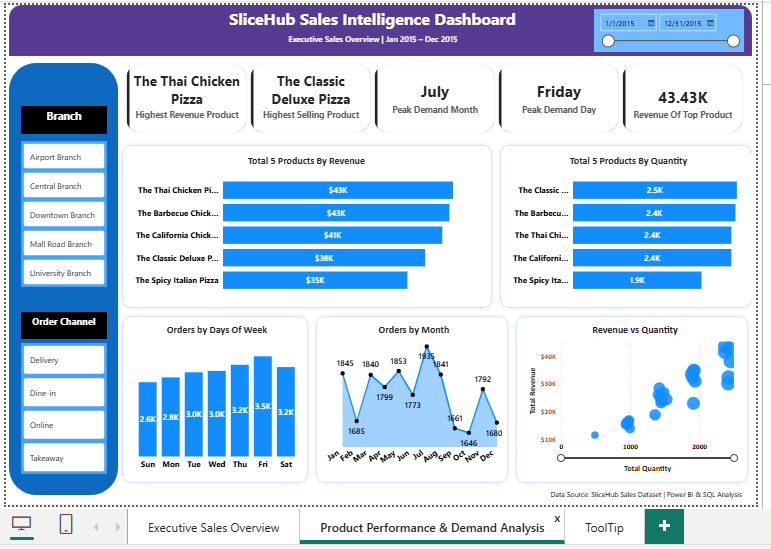

What the dashboard file says about the page in this screenshot:
{"tool":"powerbi","page":{"name":"Product Performance & Demand Analysis","canvas":[1500,1000],"ordinal":1},"visuals":[{"type":"shape","box":[6,0,1486,102],"z":0},{"type":"cardVisual","fields":{"Data":["_usermeasures.Top Revenue Product","_usermeasures.Top Selling Product","_usermeasures.Peak Sales Month","_usermeasures.Peak Sales Day","_usermeasures.Top Revenue Product Revenue"]},"box":[224,102,1268,170],"z":1000},{"type":"shape","box":[224,272,756,342],"z":2000},{"type":"barChart","title":"Total 5 Products By Revenue","fields":{"Category":["Table1.pizza_name"],"Y":["_usermeasures.Total Revenue"]},"box":[242,298,718,294],"z":3000},{"type":"shape","box":[980,272,520,342],"z":4000},{"type":"barChart","title":"Total 5 Products By Quantity","fields":{"Category":["Table1.pizza_name"],"Y":["_usermeasures.Total Quantity"]},"box":[998,298,494,294],"z":5000},{"type":"shape","box":[224,614,388,350],"z":6000},{"type":"shape","box":[612,614,400,350],"z":7000},{"type":"shape","box":[1012,614,480,350],"z":8000},{"type":"clusteredColumnChart","title":"Orders by Days Of Week","fields":{"Category":["Table1.Short Day"],"Y":["_usermeasures.Total Orders"]},"box":[242,636,360,302],"z":9000},{"type":"lineChart","title":"Orders by Month","fields":{"Category":["Table1.Short Month"],"Y":["_usermeasures.Total Orders"]},"box":[634,636,364,302],"z":10000},{"type":"scatterChart","title":"Revenue vs Quantity","fields":{"X":["_usermeasures.Total Quantity"],"Y":["_usermeasures.Total Revenue"],"Size":["_usermeasures.Total Orders"],"Category":["Table1.pizza_name"]},"box":[1040,636,436,302],"z":11000},{"type":"shape","box":[6,116,218,864],"z":12000},{"type":"slicer","fields":{"Values":["Table1.order_date"]},"box":[1176,8,300,86],"z":13000},{"type":"advancedSlicerVisual","fields":{"Values":["Table1.branch"]},"box":[30,272,172,292],"z":14000},{"type":"advancedSlicerVisual","fields":{"Values":["Table1.order_channel"]},"box":[30,676,172,262],"z":15000},{"type":"textbox","box":[30,202,172,56],"z":16000},{"type":"textbox","box":[30,614,172,54],"z":17000},{"type":"textbox","box":[426,0,614,64],"z":18000},{"type":"textbox","box":[548,52,372,36],"z":19000},{"type":"textbox","box":[1084,964,416,36],"z":20000}]}

Visuals, with their boxes on the page's 1500x1000 design canvas (x1, y1, x2, y2). These are canvas units, not pixel positions in the 771x549 screenshot, which may show the page scaled, cropped or inside an application window:
shape: pyautogui.locateOnScreen(6, 0, 1492, 102)
cardVisual - _usermeasures.Top Revenue Product x _usermeasures.Top Selling Product: pyautogui.locateOnScreen(224, 102, 1492, 272)
shape: pyautogui.locateOnScreen(224, 272, 980, 614)
"Total 5 Products By Revenue" barChart: pyautogui.locateOnScreen(242, 298, 960, 592)
shape: pyautogui.locateOnScreen(980, 272, 1500, 614)
"Total 5 Products By Quantity" barChart: pyautogui.locateOnScreen(998, 298, 1492, 592)
shape: pyautogui.locateOnScreen(224, 614, 612, 964)
shape: pyautogui.locateOnScreen(612, 614, 1012, 964)
shape: pyautogui.locateOnScreen(1012, 614, 1492, 964)
"Orders by Days Of Week" clusteredColumnChart: pyautogui.locateOnScreen(242, 636, 602, 938)
"Orders by Month" lineChart: pyautogui.locateOnScreen(634, 636, 998, 938)
"Revenue vs Quantity" scatterChart: pyautogui.locateOnScreen(1040, 636, 1476, 938)
shape: pyautogui.locateOnScreen(6, 116, 224, 980)
slicer - Table1.order_date: pyautogui.locateOnScreen(1176, 8, 1476, 94)
advancedSlicerVisual - Table1.branch: pyautogui.locateOnScreen(30, 272, 202, 564)
advancedSlicerVisual - Table1.order_channel: pyautogui.locateOnScreen(30, 676, 202, 938)
textbox: pyautogui.locateOnScreen(30, 202, 202, 258)
textbox: pyautogui.locateOnScreen(30, 614, 202, 668)
textbox: pyautogui.locateOnScreen(426, 0, 1040, 64)
textbox: pyautogui.locateOnScreen(548, 52, 920, 88)
textbox: pyautogui.locateOnScreen(1084, 964, 1500, 1000)
